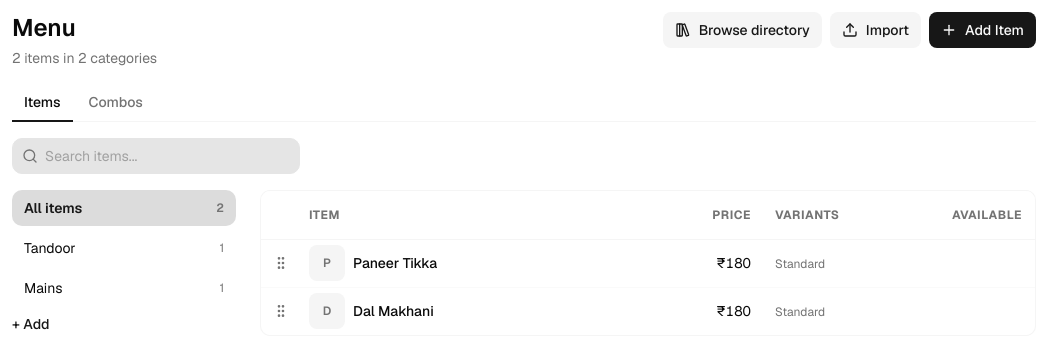
Test: MenuManagement list › filters the table by search text across name
This screenshot has width=1048, height=352.
Expected: the table with test id "menu-table" is shown, [261,191,1035,335]
Type "Dal" into the search field with test id "menu-search". click: (156, 156)
box: [12,138,300,174]
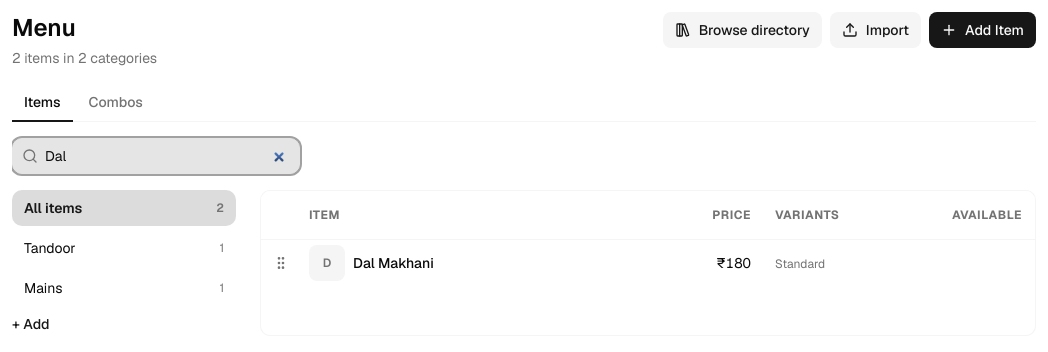
Expected: the row with test id "menu-item-row-2" is shown, [261,239,1035,287]
Result: the row with test id "menu-item-row-1" is gone
